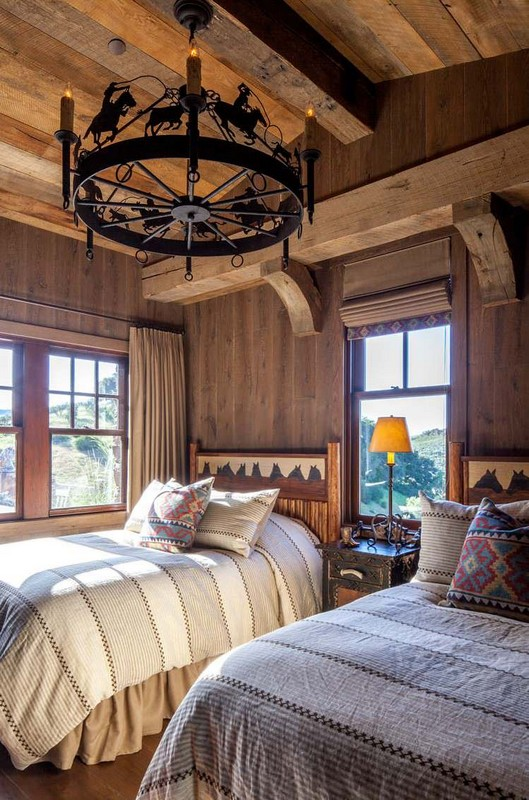bed: (192, 463, 523, 795), (6, 446, 320, 755)
lamp: (368, 414, 418, 543)
stool: (309, 525, 417, 616)
